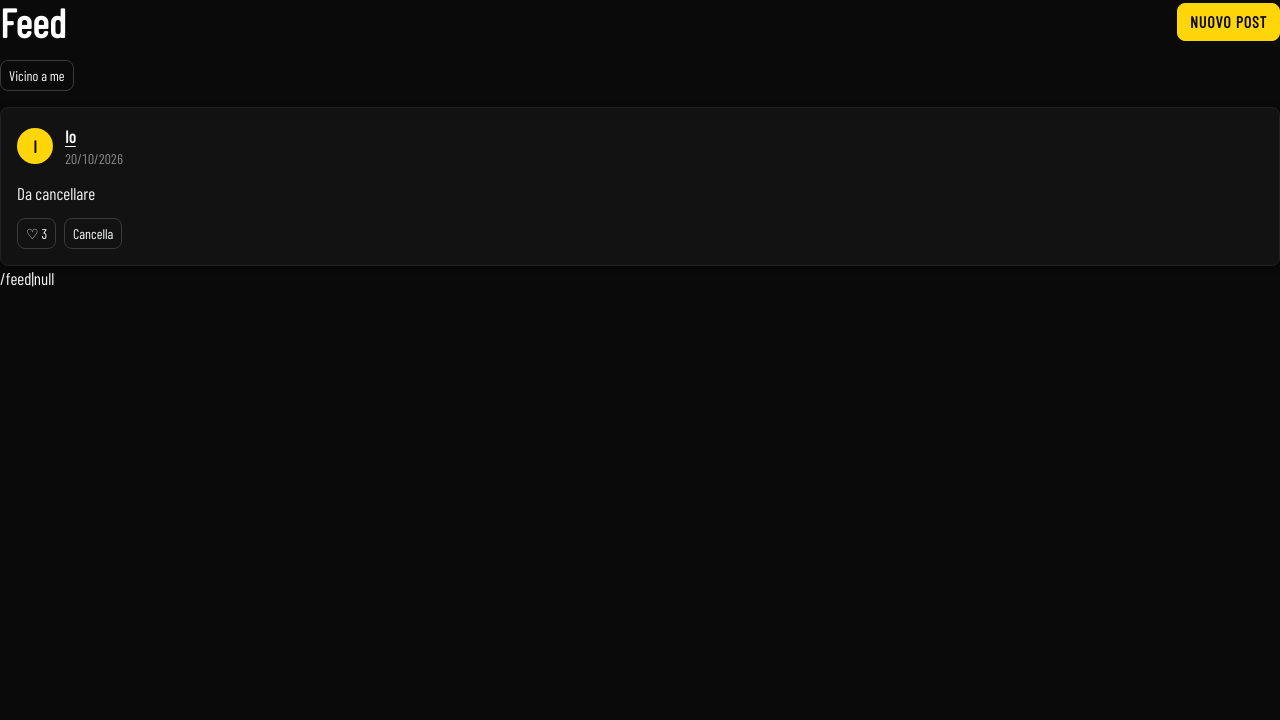
FeedPage · like e cancellazione › cancellare un proprio post chiede conferma, avvisa e il post sparisce dall'elenco
The image size is (1280, 720).
Expected: the text "Da cancellare" is shown, [17,183,95,203]
Click the button "Cancella".
click(93, 233)  # box [64,218,122,249]
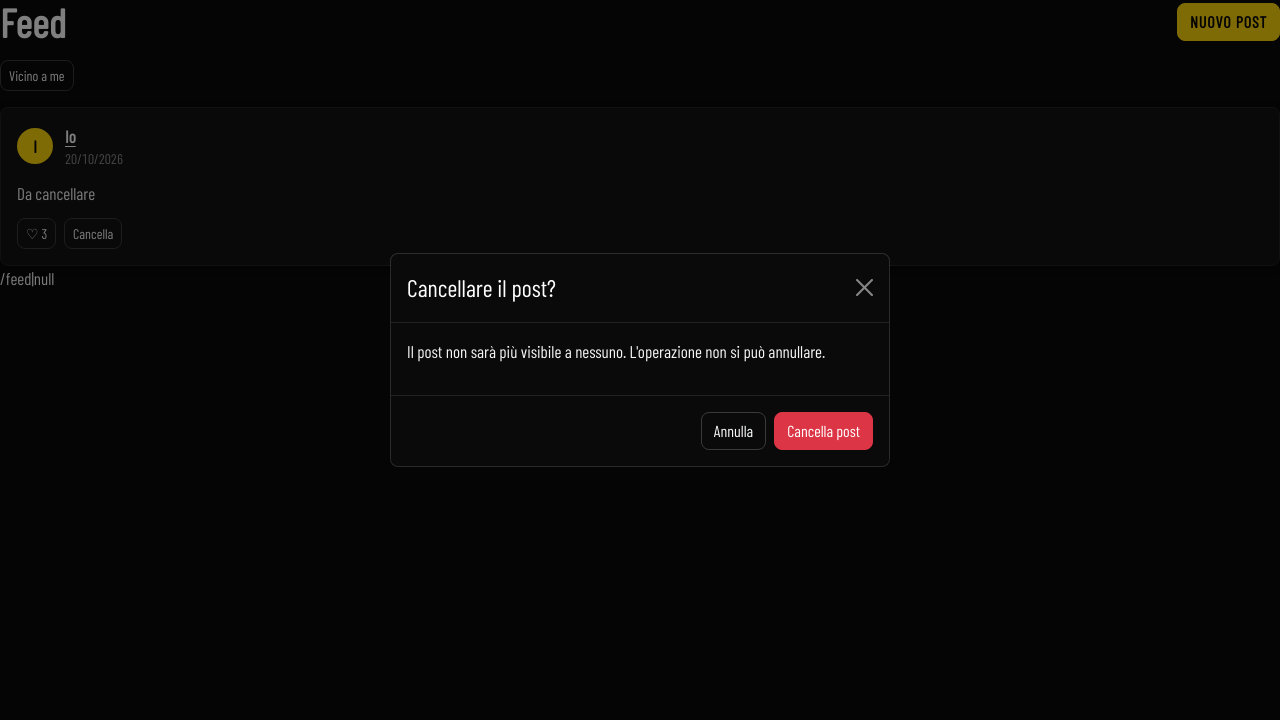
Click the button "Cancella post".
click(824, 431)  # box [774,412,873,450]
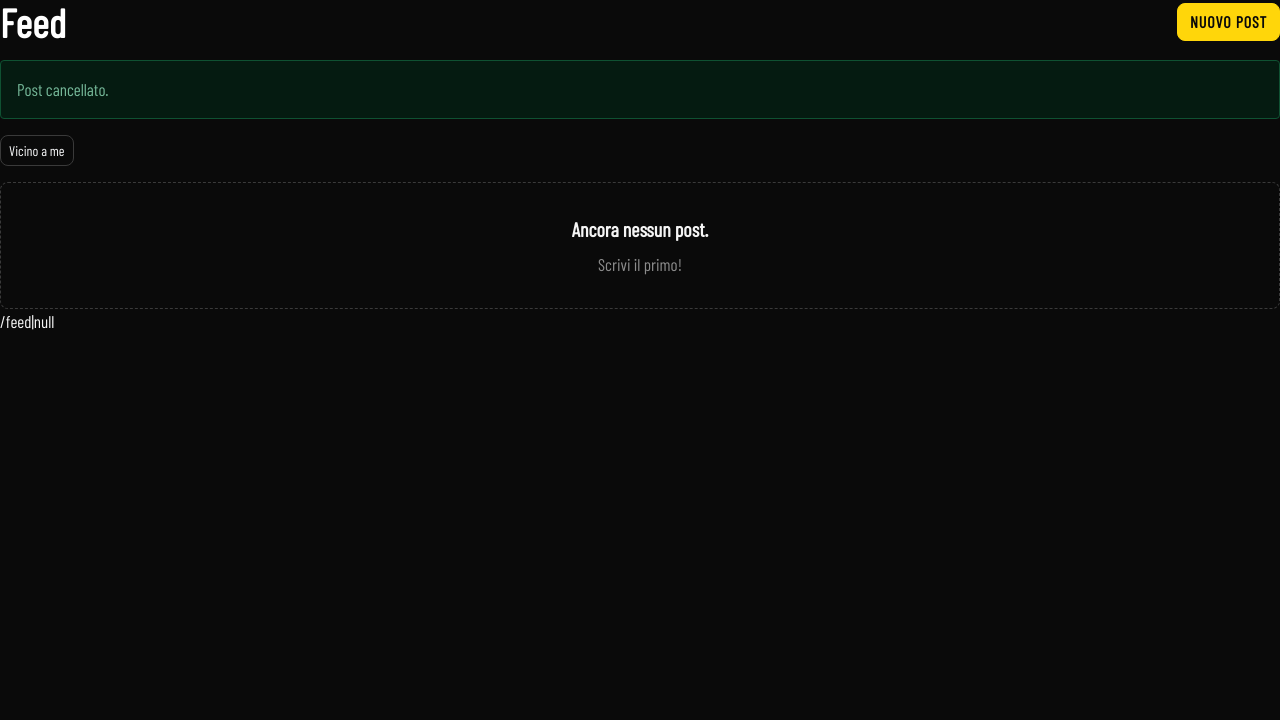
Expected: the text "Post cancellato." is shown, [0,60,1279,119]
Expected: the text "Da cancellare" is gone
